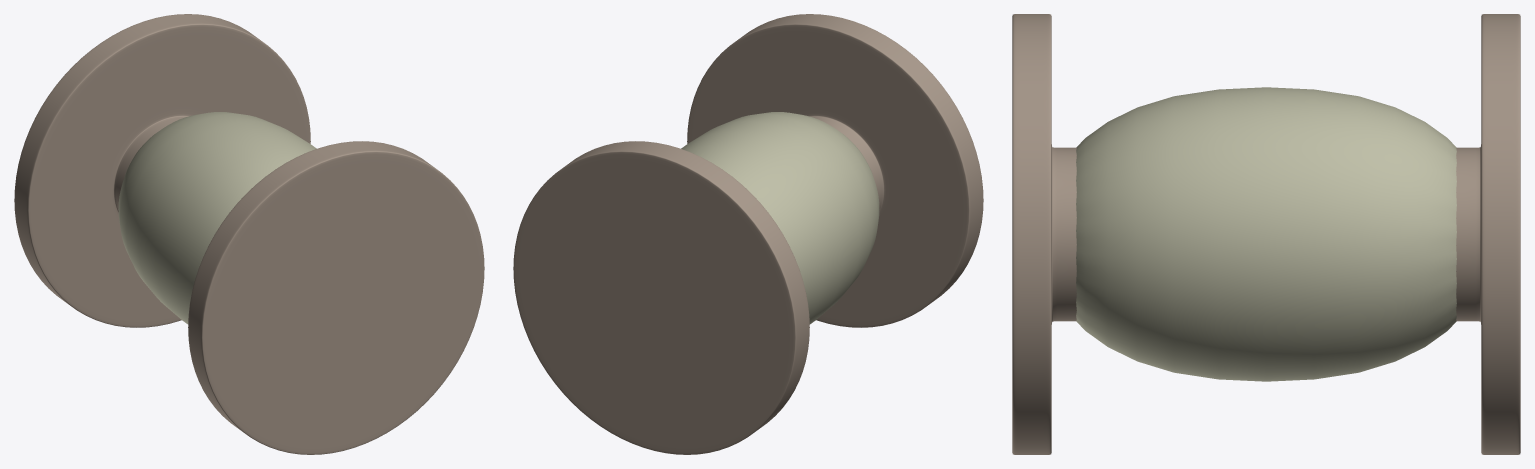
Rendered from spool_full.fbx.
The picture shows the model from 3 angles, left to right: view 1: azimuth 30°, elevation 25°; view 2: azimuth 150°, elevation 25°; view 3: azimuth 270°, elevation 25°; orthographic projection. The views are drawn at different scales.
Parts seen in each view (by area): view 1: spool_full; view 2: spool_full; view 3: spool_full.
Boxes of the visible parts, box(x1,y1,x2,y2) form: spool_full: box(14, 14, 484, 454); spool_full: box(513, 14, 983, 454); spool_full: box(1012, 14, 1520, 454).
Bounding box in the file's own units: 48.36 × 48.36 × 55.71.
